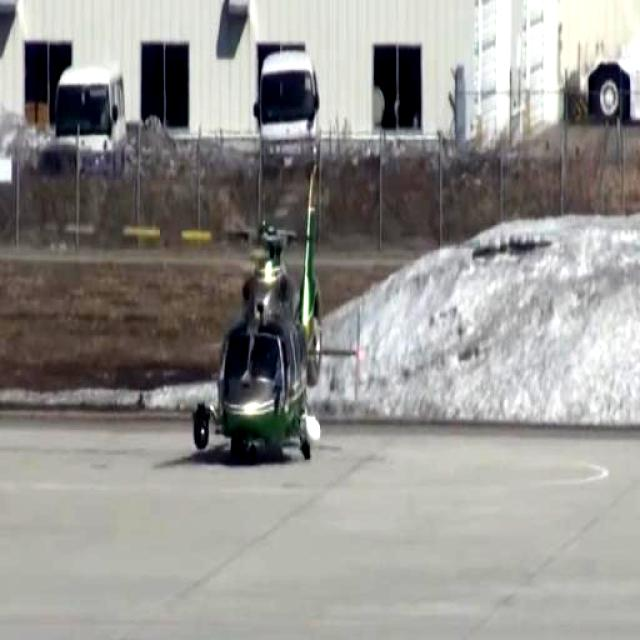drone: (174, 146, 364, 500)
